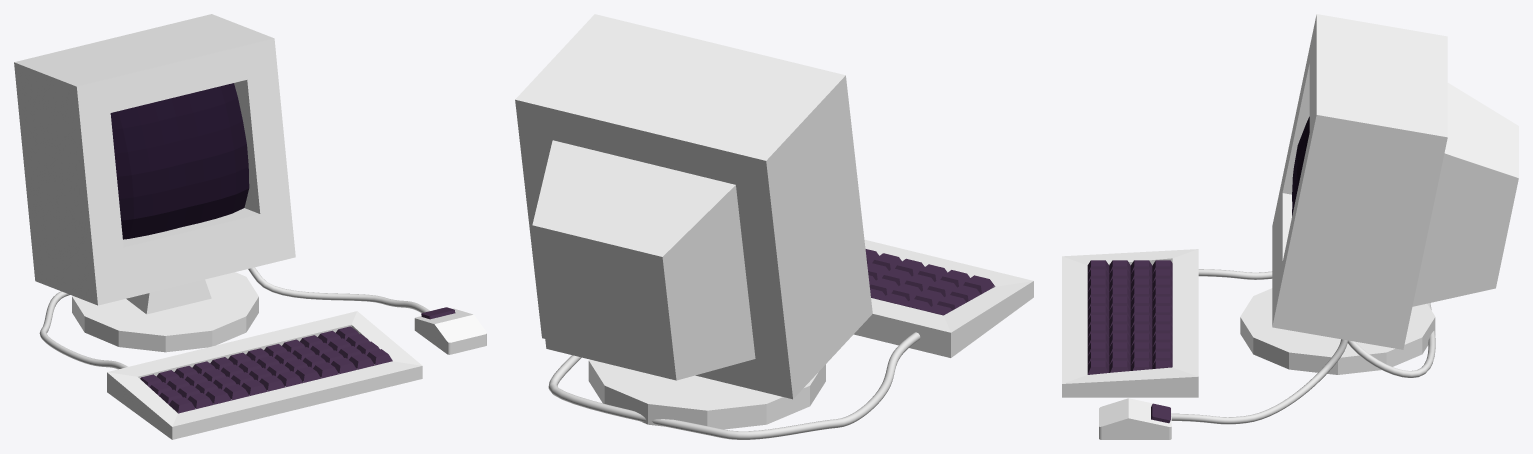
The model's file is monitor.fbx.
The picture shows the model from 3 angles, left to right: view 1: azimuth 30°, elevation 25°; view 2: azimuth 150°, elevation 25°; view 3: azimuth 270°, elevation 25°; orthographic projection. The views are drawn at different scales.
Parts seen in each view (by area): view 1: Monitor, Keyboard, Keycaps, Cylinder, Mouse, BézierCurve.001, BézierCurve; view 2: Monitor, Cylinder, Keyboard, Keycaps, BézierCurve; view 3: Monitor, Keyboard, Keycaps, Cylinder, Mouse, BézierCurve.001, BézierCurve.
Boxes of the visible parts, bbox=[...] form: Monitor: bbox=[14, 14, 295, 314]; Keyboard: bbox=[107, 311, 422, 439]; Keycaps: bbox=[140, 326, 392, 413]; Cylinder: bbox=[72, 272, 258, 352]; Mouse: bbox=[414, 307, 486, 354]; BézierCurve.001: bbox=[248, 267, 429, 313]; BézierCurve: bbox=[39, 291, 127, 369]; Monitor: bbox=[515, 14, 872, 399]; Cylinder: bbox=[588, 359, 825, 429]; Keyboard: bbox=[854, 239, 1033, 357]; Keycaps: bbox=[865, 249, 995, 315]; BézierCurve: bbox=[548, 332, 920, 439]; Monitor: bbox=[1272, 14, 1518, 349]; Keyboard: bbox=[1062, 249, 1198, 397]; Keycaps: bbox=[1087, 260, 1172, 374]; Cylinder: bbox=[1240, 288, 1435, 374]; Mouse: bbox=[1099, 398, 1171, 439]; BézierCurve.001: bbox=[1171, 339, 1347, 424]; BézierCurve: bbox=[1198, 269, 1435, 377].
Bounding box in the file's own units: 55.21 × 41.18 × 62.68.
Materials: 3 (1 with a texture image).
